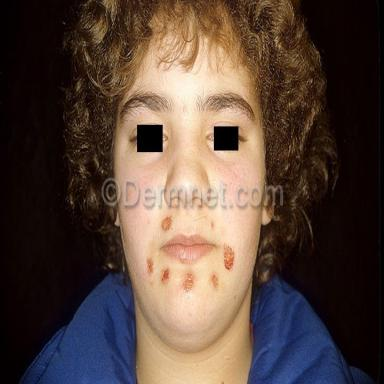acne: (223, 246, 235, 269), (183, 273, 194, 292), (161, 215, 172, 231), (161, 268, 169, 283), (211, 274, 218, 288), (147, 258, 153, 274), (211, 221, 214, 229)
